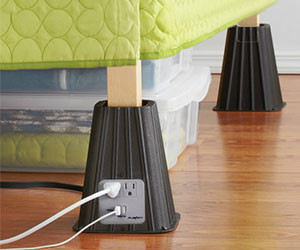outlet: (123, 181, 136, 196)
